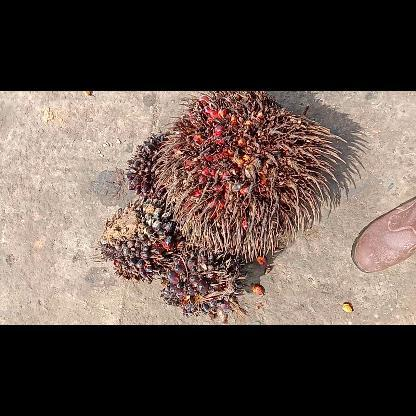TBS abnormal: (95, 195, 186, 284), (158, 245, 247, 323), (126, 133, 174, 199)
Terlalu masak: (152, 92, 348, 266)
